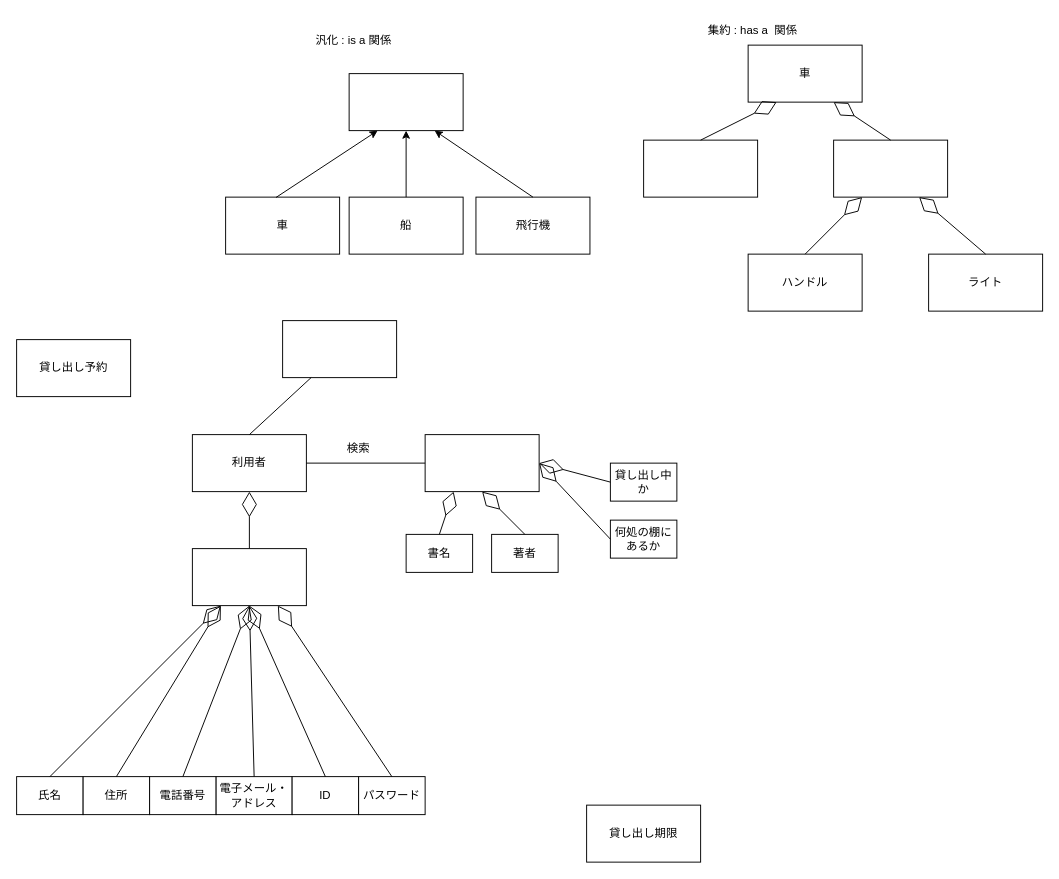
Image size: 1059x879. Some labels were removed from this diagram. Each missing label, with the box of its shape:
エンジン: (643, 139, 758, 197)
ボディ: (833, 139, 948, 197)
乗り物: (348, 73, 463, 131)
図書: (424, 434, 539, 492)
図書カード: (191, 548, 306, 606)
図書館: (282, 320, 397, 378)
